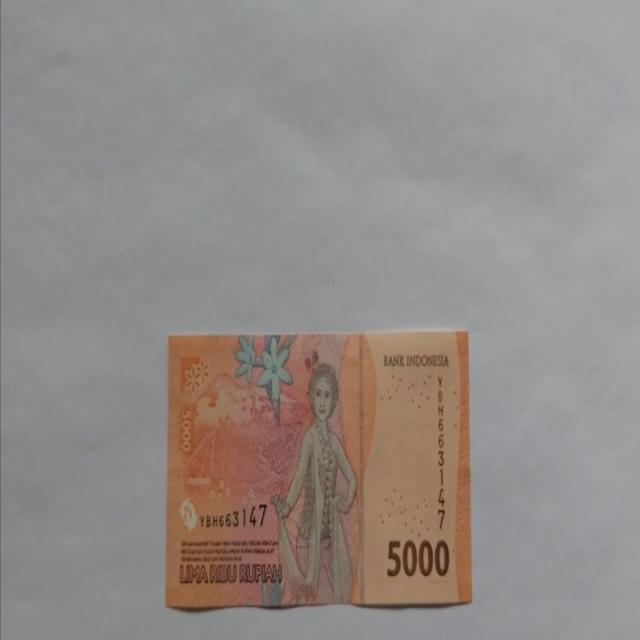lima ribu rupiah: (165, 329, 472, 611), (270, 362, 358, 604)
